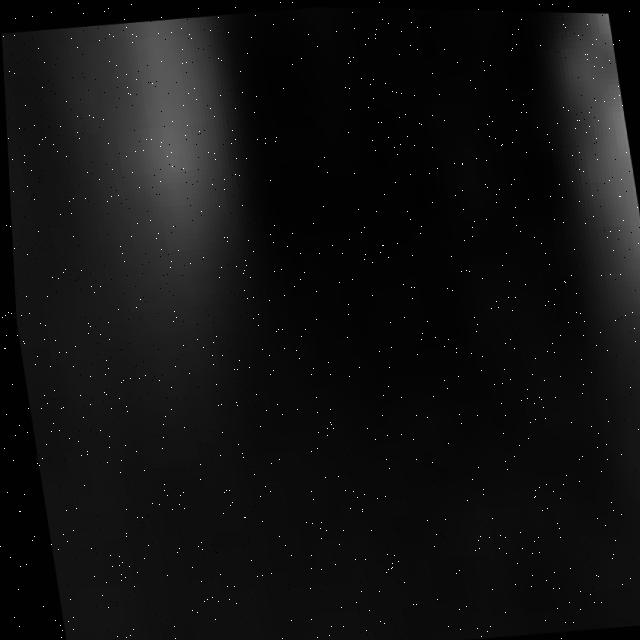person: (68, 10, 275, 371)
